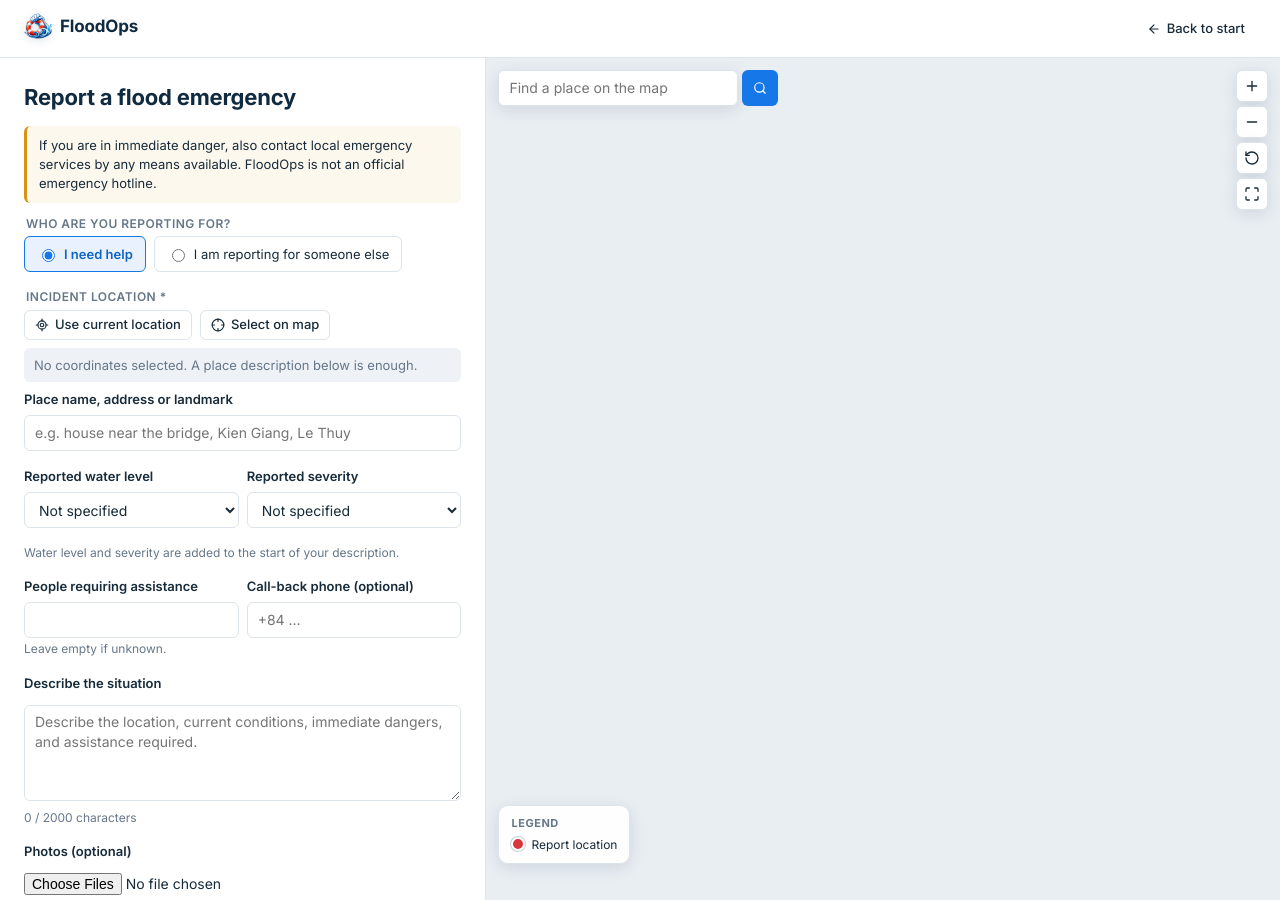
Test: ReportPage › uses device coordinates only after geolocation succeeds
Click the button "Use current location".
click(108, 324)  # box [24,310,192,340]
(page scrolled)
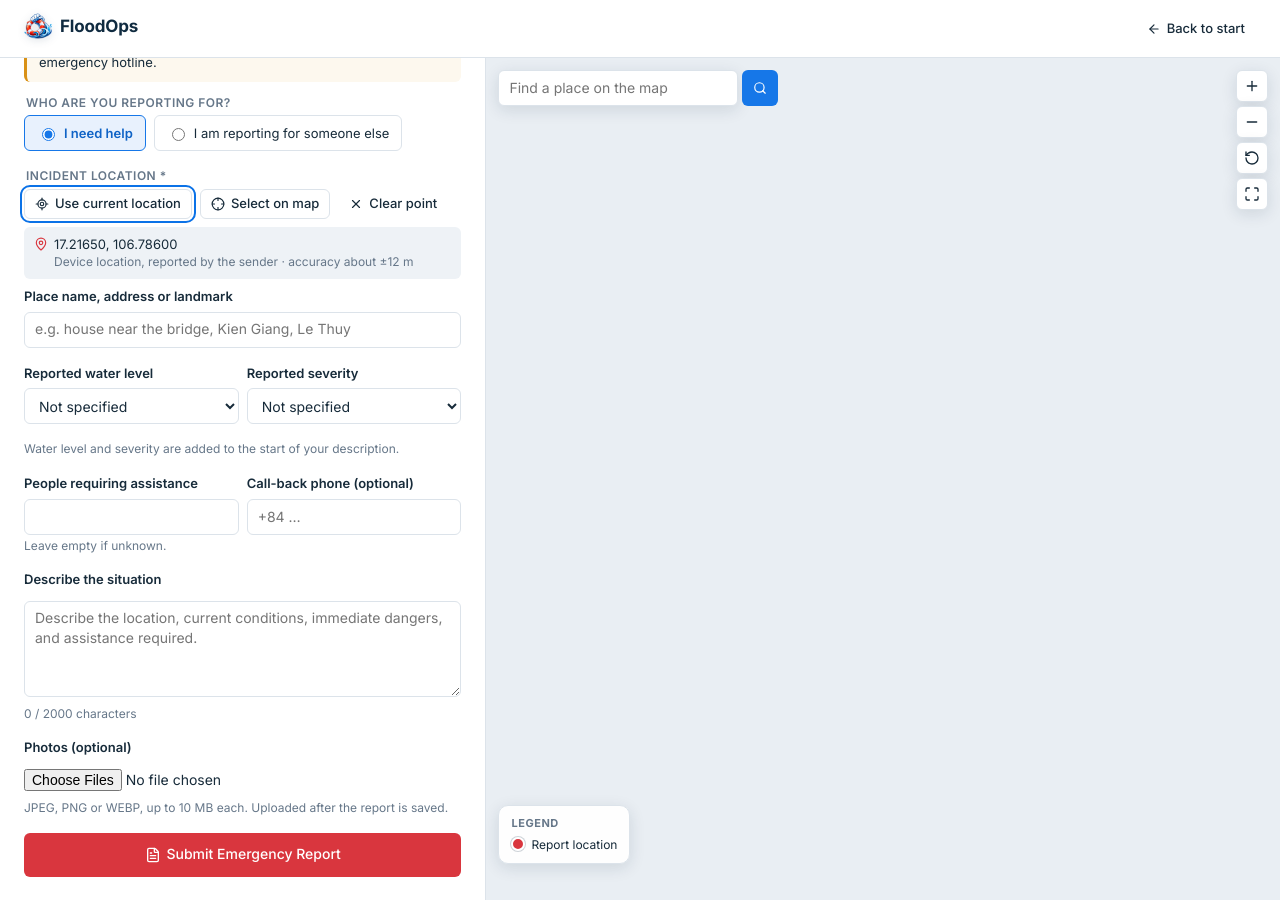
Result: the text "17.21650, 106.78600" is shown at [54,236,177,252]
Result: the text "accuracy about ±12 m" is shown at [278,254,414,269]
Click the button "Submit Emergency Report".
click(243, 854)  # box [24,832,461,876]
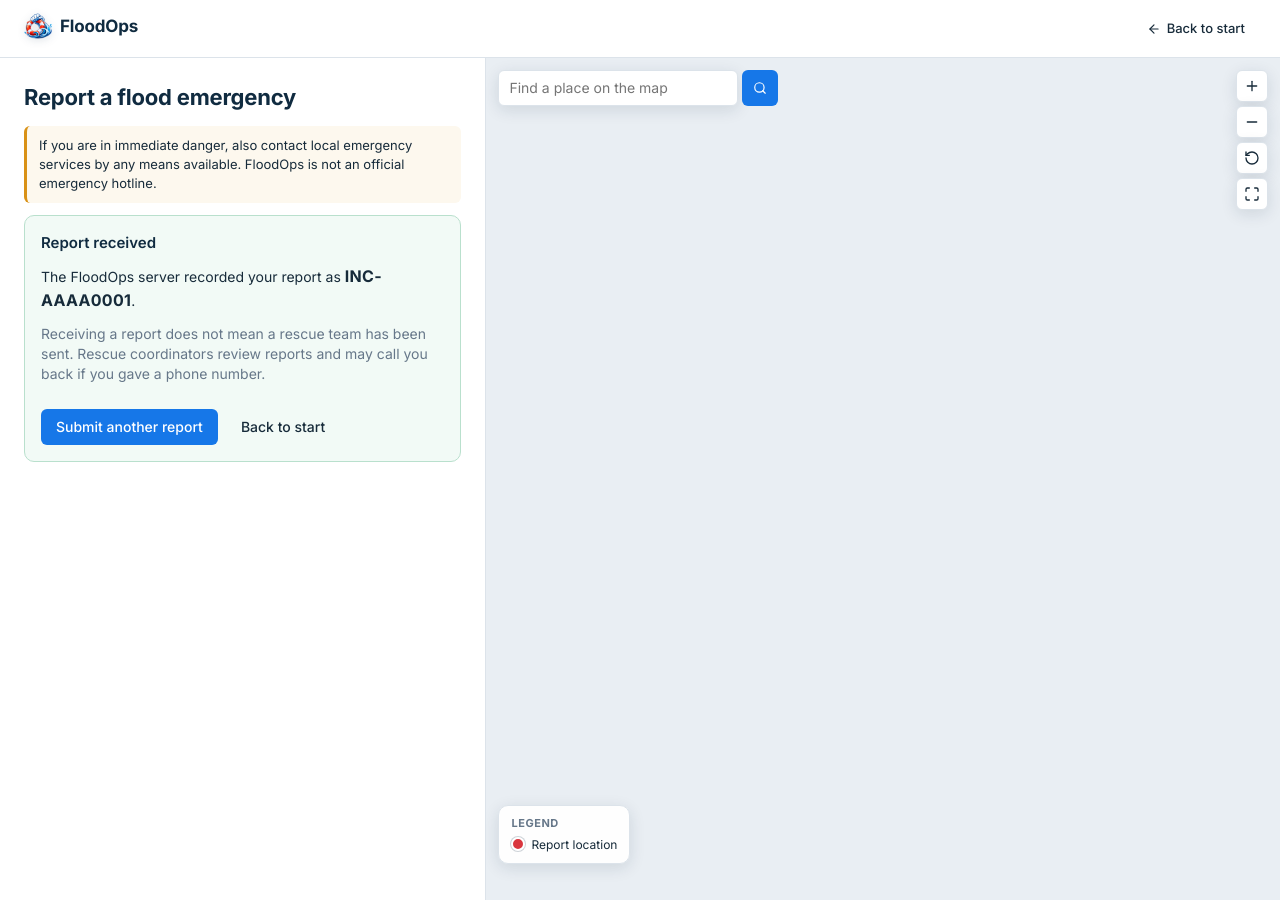
Result: the heading "Report received" is shown at [41,233,156,252]
